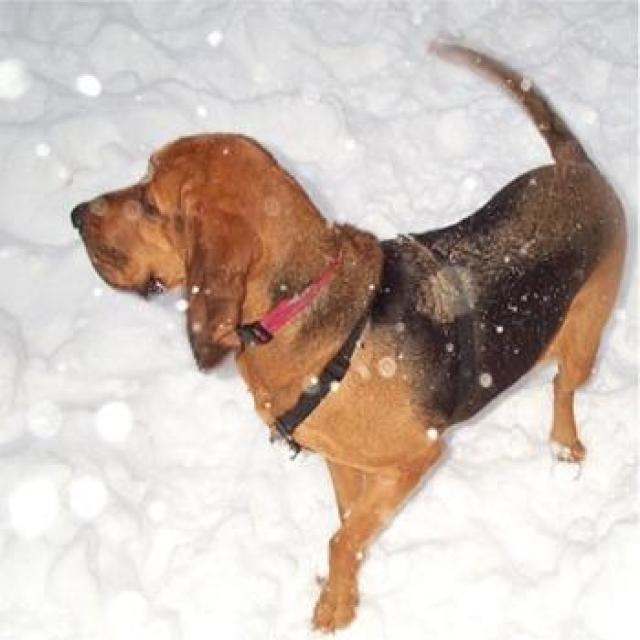bloodhound: (71, 37, 629, 638)
